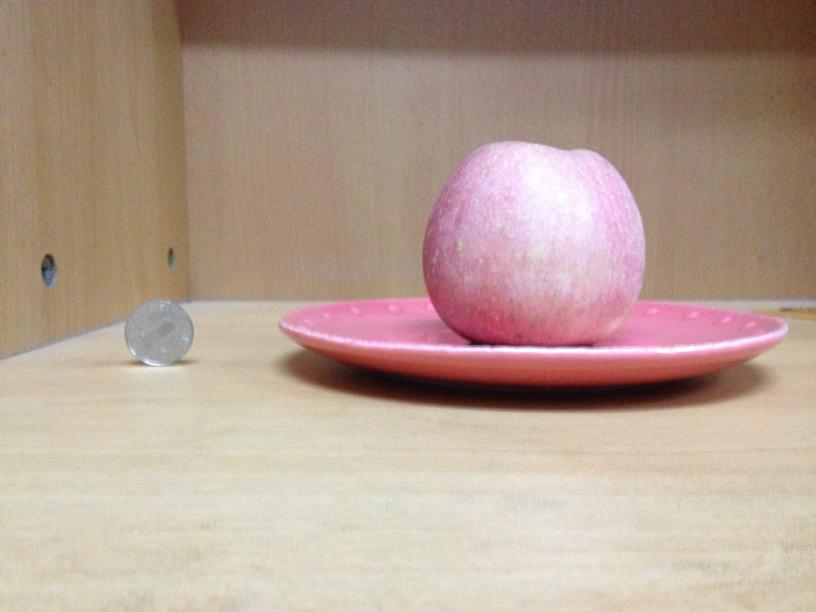apple: (418, 140, 645, 344)
coin: (123, 301, 194, 366)
